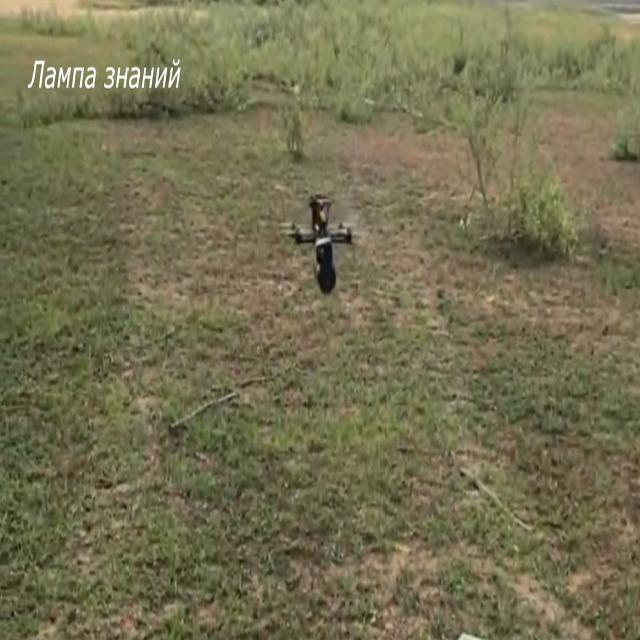drone: (280, 191, 364, 296)
